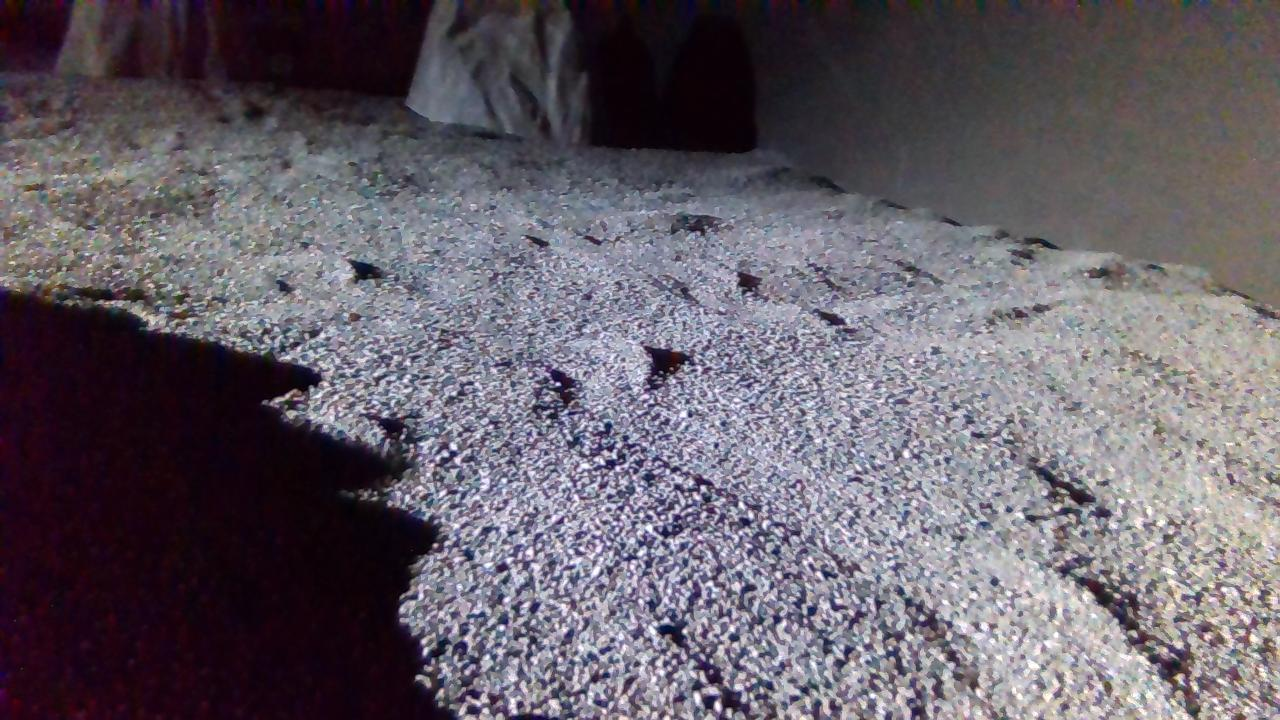rock: (406, 0, 589, 143), (54, 0, 222, 76)
